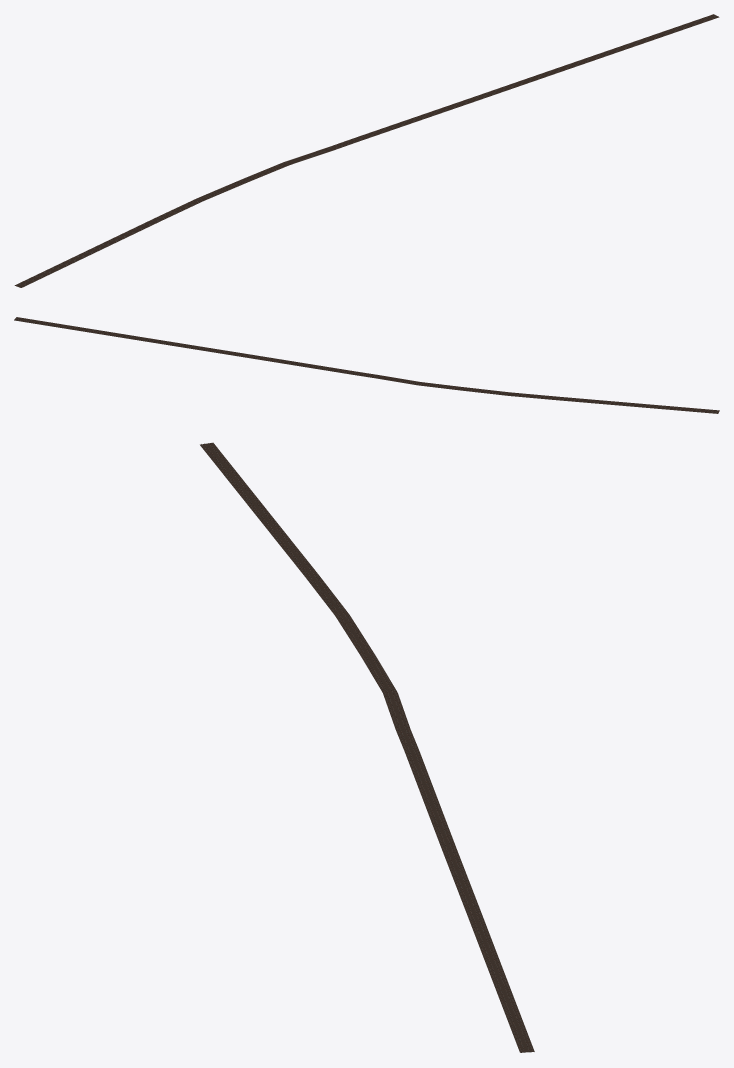
The model's file is kobe_0026.glb.
3 views of the same model, one above another, from view 1: azimuth 30°, elevation 25°; view 2: azimuth 150°, elevation 25°; view 3: azimuth 270°, elevation 25° (orthographic). The views are drawn at different scales.
Visible parts, largest first — view 1: ballast_top, oxidised_rail_profiles; view 2: ballast_top, oxidised_rail_profiles, ballast_left; view 3: ballast_top, oxidised_rail_profiles.
Boxes of the visible parts, x1,y1,x2,y2 form: ballast_top: (14,14,719,287); oxidised_rail_profiles: (15,14,718,287); ballast_top: (14,317,719,413); oxidised_rail_profiles: (15,317,719,412); ballast_left: (14,320,718,413); ballast_top: (200,442,534,1052); oxidised_rail_profiles: (201,443,532,1051).
Size of the model in its own units: 737 by 0.819 by 172.
Materials: 4 (3 with a texture image).
